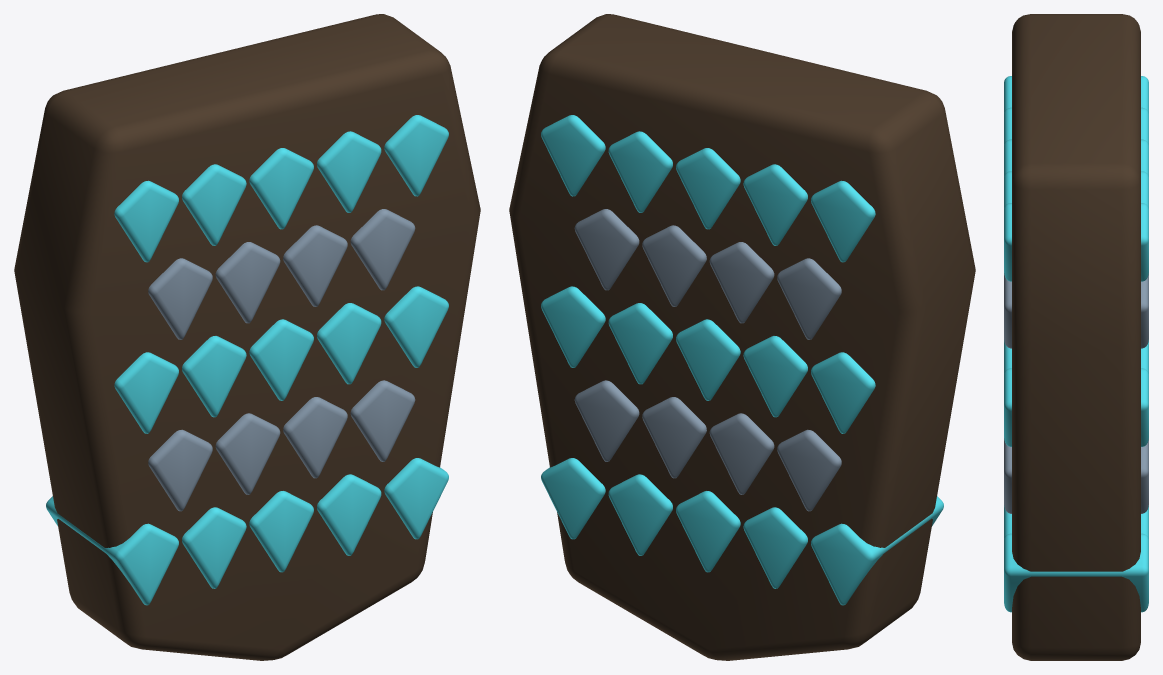
File: cuirass_v4.glb
3 views of the same model, side by side, from view 1: azimuth 30°, elevation 25°; view 2: azimuth 150°, elevation 25°; view 3: azimuth 270°, elevation 25° (orthographic). The views are drawn at different scales.
Visible parts, largest first — view 1: SCALE_VEST_SECONDARY, ARMOUR_SCALE_ACCENT.010, ARMOUR_SCALE_ACCENT.005, ARMOUR_SCALE_PRIMARY.001, ARMOUR_SCALE_PRIMARY.003, ARMOUR_SCALE_ACCENT.009, ARMOUR_SCALE_ACCENT.006, ARMOUR_SCALE_ACCENT.007, ARMOUR_SCALE_ACCENT.008, ARMOUR_SCALE_ACCENT.003, ARMOUR_SCALE_ACCENT.013, ARMOUR_SCALE_ACCENT (+12 smaller); view 2: SCALE_VEST_SECONDARY, ARMOUR_SCALE_ACCENT.010, ARMOUR_SCALE_ACCENT.005, ARMOUR_SCALE_PRIMARY.001, ARMOUR_SCALE_PRIMARY.003, ARMOUR_SCALE_ACCENT.009, ARMOUR_SCALE_ACCENT.006, ARMOUR_SCALE_ACCENT.007, ARMOUR_SCALE_ACCENT.008, ARMOUR_SCALE_ACCENT.003, ARMOUR_SCALE_ACCENT.013, ARMOUR_SCALE_ACCENT (+12 smaller); view 3: SCALE_VEST_SECONDARY, ARMOUR_SCALE_ACCENT.014, ARMOUR_SCALE_ACCENT.004, ARMOUR_SCALE_ACCENT.009, ARMOUR_SCALE_PRIMARY.003, ARMOUR_SCALE_PRIMARY.007, ARMOUR_SCALE_ACCENT.001, ARMOUR_SCALE_ACCENT.002, ARMOUR_SCALE_ACCENT, ARMOUR_SCALE_ACCENT.003, ARMOUR_SCALE_ACCENT.008, ARMOUR_SCALE_ACCENT.013.
Part boxes in pixels (box(x1,y1,x2,y2)): SCALE_VEST_SECONDARY: box(14, 14, 480, 660); ARMOUR_SCALE_ACCENT.010: box(46, 496, 178, 605); ARMOUR_SCALE_ACCENT.005: box(114, 352, 178, 433); ARMOUR_SCALE_PRIMARY.001: box(215, 242, 280, 323); ARMOUR_SCALE_PRIMARY.003: box(350, 209, 415, 290); ARMOUR_SCALE_ACCENT.009: box(384, 286, 448, 367); ARMOUR_SCALE_ACCENT.006: box(182, 336, 246, 417); ARMOUR_SCALE_ACCENT.007: box(249, 319, 313, 400); ARMOUR_SCALE_ACCENT.008: box(317, 303, 381, 384); ARMOUR_SCALE_ACCENT.003: box(317, 131, 381, 212); ARMOUR_SCALE_ACCENT.013: box(317, 474, 381, 555); ARMOUR_SCALE_ACCENT: box(114, 180, 178, 262); SCALE_VEST_SECONDARY: box(509, 14, 975, 660); ARMOUR_SCALE_ACCENT.010: box(811, 496, 943, 605); ARMOUR_SCALE_ACCENT.005: box(811, 352, 875, 433); ARMOUR_SCALE_PRIMARY.001: box(709, 242, 774, 323); ARMOUR_SCALE_PRIMARY.003: box(574, 209, 639, 290); ARMOUR_SCALE_ACCENT.009: box(541, 286, 605, 367); ARMOUR_SCALE_ACCENT.006: box(743, 336, 807, 417); ARMOUR_SCALE_ACCENT.007: box(676, 319, 740, 400); ARMOUR_SCALE_ACCENT.008: box(608, 303, 672, 384); ARMOUR_SCALE_ACCENT.003: box(608, 131, 672, 212); ARMOUR_SCALE_ACCENT.013: box(608, 474, 672, 555); ARMOUR_SCALE_ACCENT: box(811, 180, 875, 262); SCALE_VEST_SECONDARY: box(1012, 14, 1140, 660); ARMOUR_SCALE_ACCENT.014: box(1004, 533, 1148, 612); ARMOUR_SCALE_ACCENT.004: box(1004, 203, 1148, 281); ARMOUR_SCALE_ACCENT.009: box(1004, 368, 1148, 446); ARMOUR_SCALE_PRIMARY.003: box(1004, 275, 1148, 348); ARMOUR_SCALE_PRIMARY.007: box(1004, 440, 1148, 513); ARMOUR_SCALE_ACCENT.001: box(1004, 107, 1148, 144); ARMOUR_SCALE_ACCENT.002: box(1004, 139, 1148, 176); ARMOUR_SCALE_ACCENT: box(1004, 76, 1148, 113); ARMOUR_SCALE_ACCENT.003: box(1004, 171, 1148, 208); ARMOUR_SCALE_ACCENT.008: box(1004, 342, 1148, 373); ARMOUR_SCALE_ACCENT.013: box(1004, 507, 1148, 538).
Bounding box in the file's own units: 1.72 × 2.26 × 0.54.
